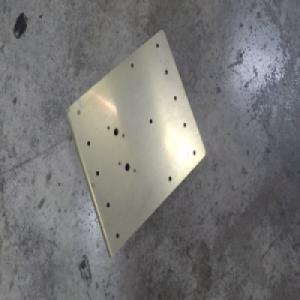MetalSheet: (64, 27, 206, 259)
